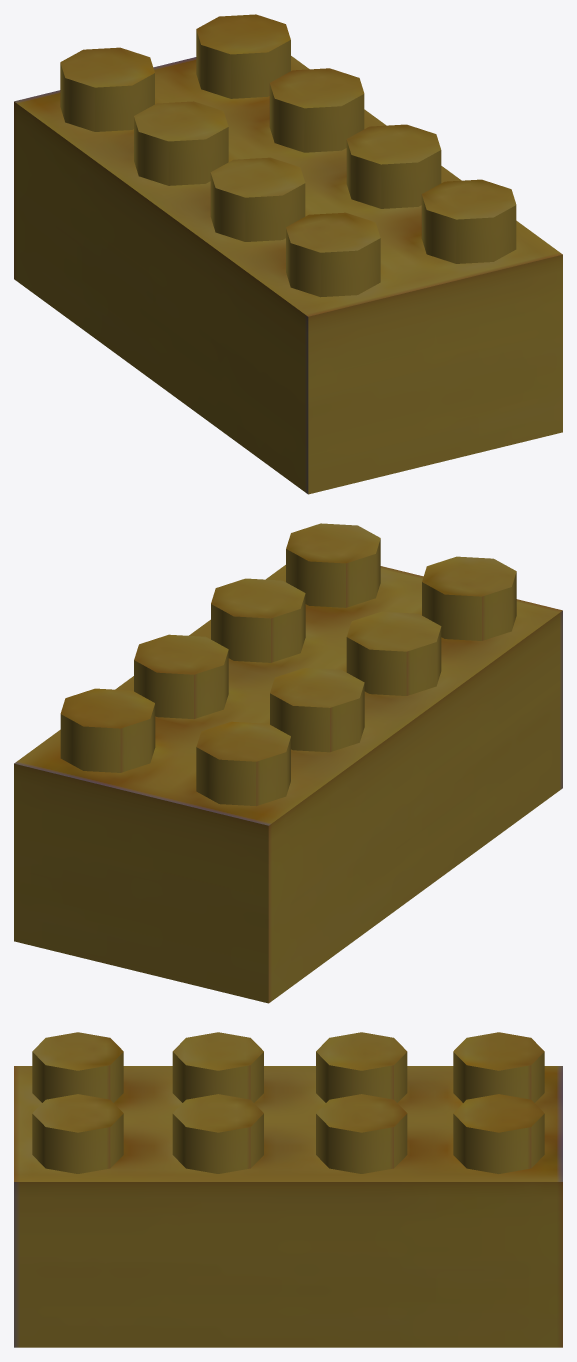
The model's file is toy_brick_1.obj.
3 renders of one model, top to bottom at view 1: azimuth 30°, elevation 25°; view 2: azimuth 150°, elevation 25°; view 3: azimuth 270°, elevation 25°, orthographic. The views are drawn at different scales.
Parts seen in each view (by area): view 1: toy_brick_1; view 2: toy_brick_1; view 3: toy_brick_1.
Boxes of the visible parts, <box> form: toy_brick_1: <box>14,14,562,494</box>; toy_brick_1: <box>14,523,562,1003</box>; toy_brick_1: <box>14,1032,562,1347</box>.
Size of the model in its own units: 0.03 by 0.025 by 0.06.
